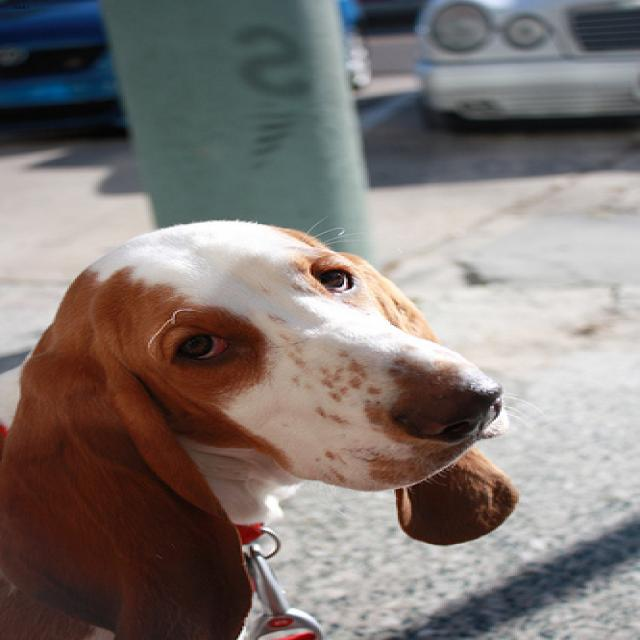dog-basset_hound: (2, 207, 546, 637)
